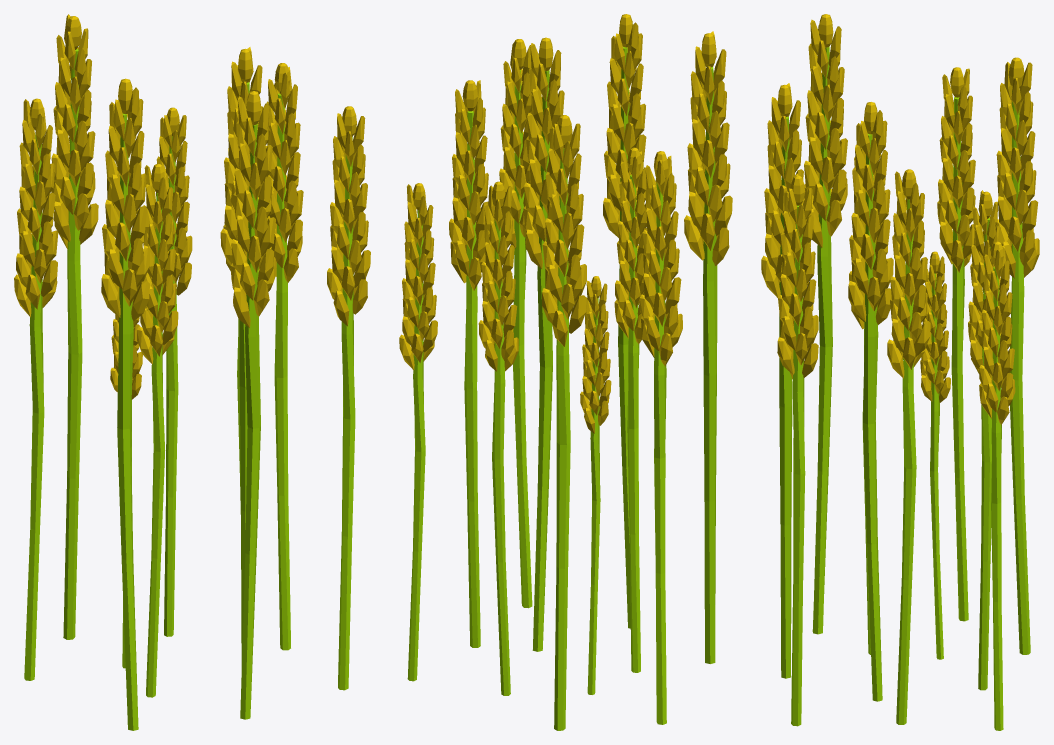
File: Wheat.fbx
3 views of the same model, side by side, from view 1: azimuth 30°, elevation 25°; view 2: azimuth 150°, elevation 25°; view 3: azimuth 270°, elevation 25° (orthographic). The views are drawn at different scales.
Parts seen in each view (by area): view 1: Wheat; view 2: Wheat; view 3: Wheat.
Boxes of the visible parts, box(x1,y1,x2,y2) form: Wheat: box(14, 14, 370, 730); Wheat: box(399, 14, 732, 730); Wheat: box(761, 14, 1039, 730).
Bounding box in the file's own units: 153 × 355 × 145.
